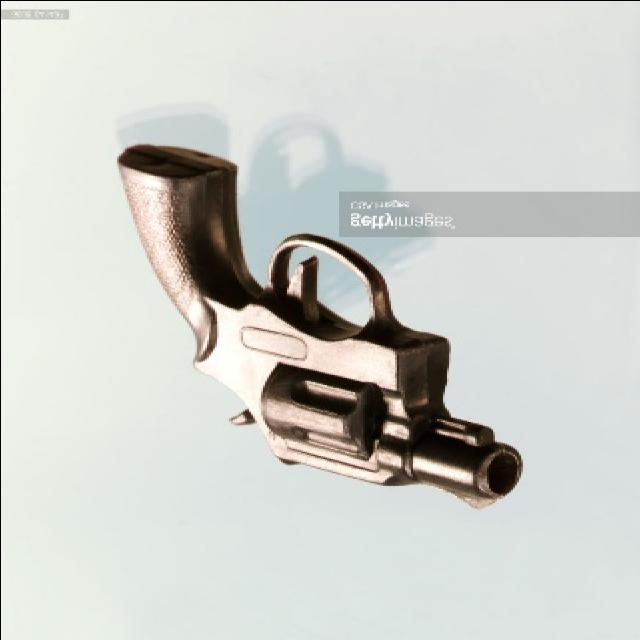handgun: (111, 142, 529, 514)
